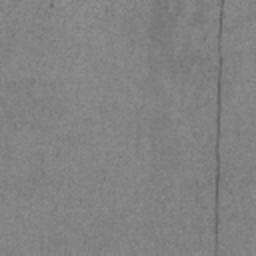Scratches: (214, 56, 223, 235), (218, 10, 224, 42)
